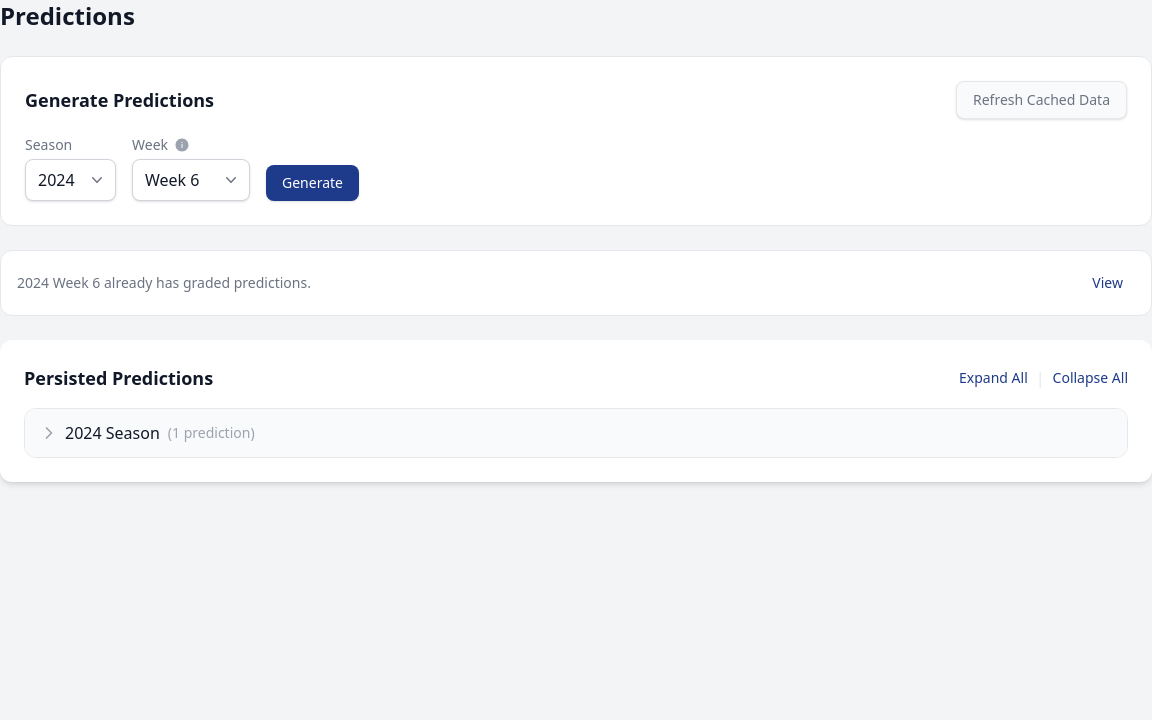
Test case: PredictionsPage › does not generate when the overwrite confirmation is cancelled
The width and height of the screenshot is (1152, 720).
Step 1. Click the button "Generate" → (312, 183), box [266, 165, 359, 201]
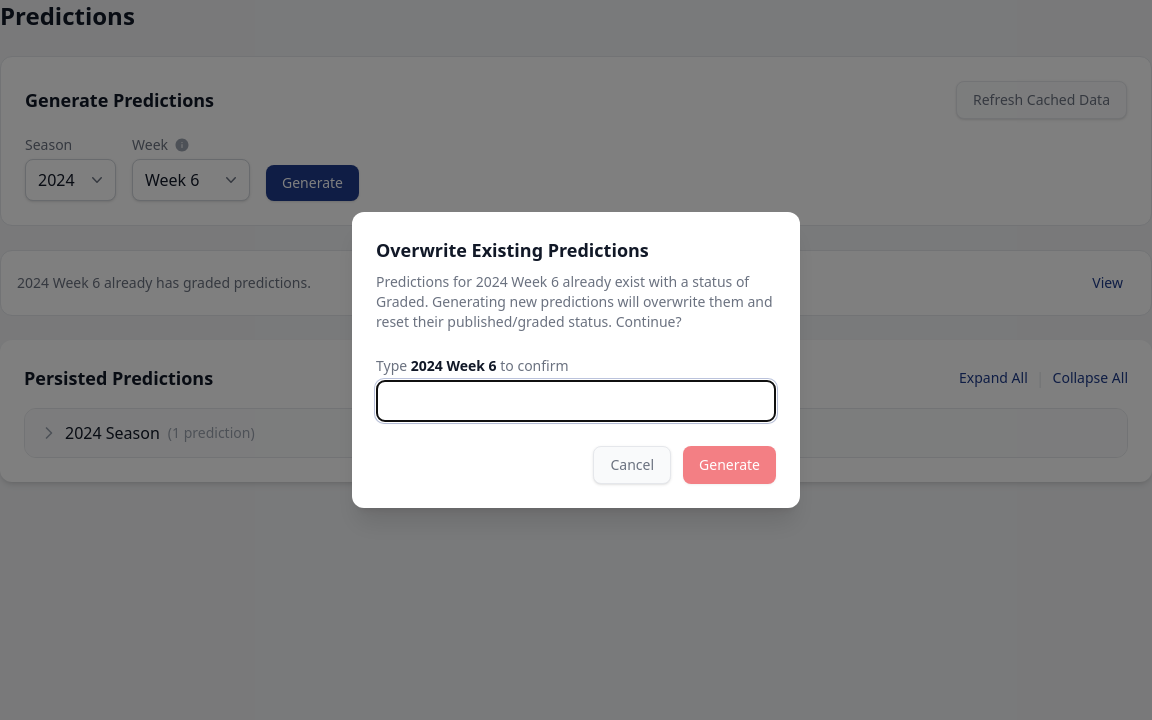
Step 2. Click the button "Cancel" → (632, 465), box [594, 446, 671, 484]
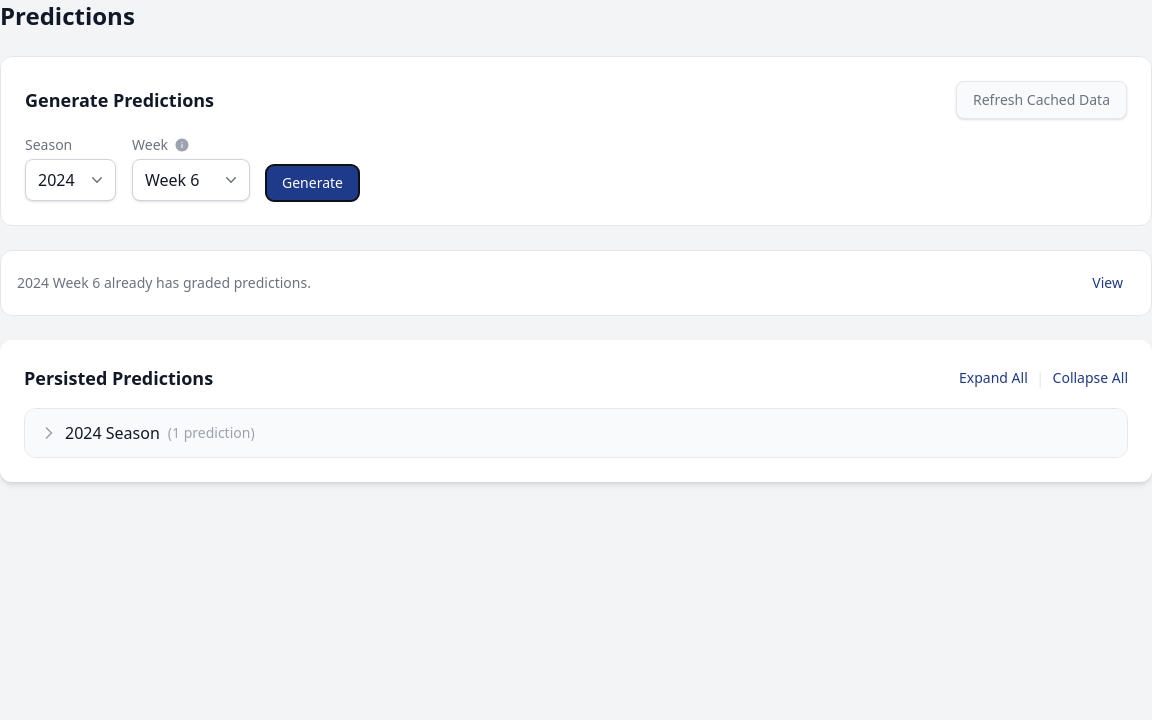
Expected: the dialog is gone
